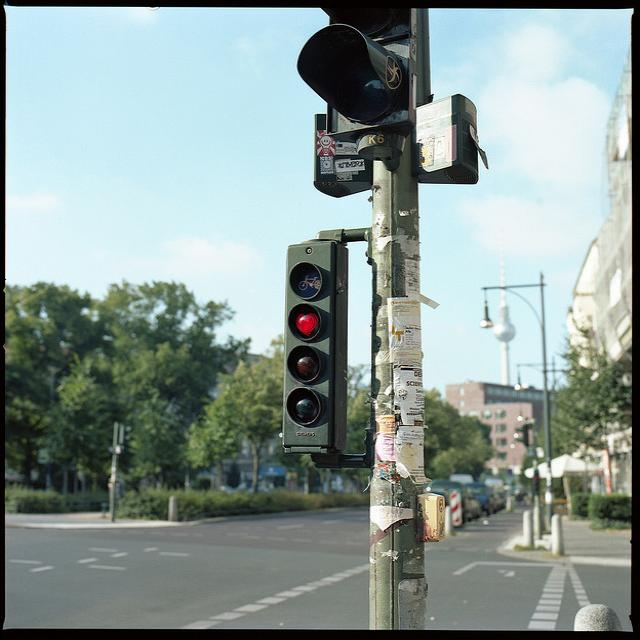Vehicle: (426, 478, 464, 504), (466, 480, 491, 514), (463, 486, 484, 524), (491, 491, 507, 514), (511, 488, 529, 502)
